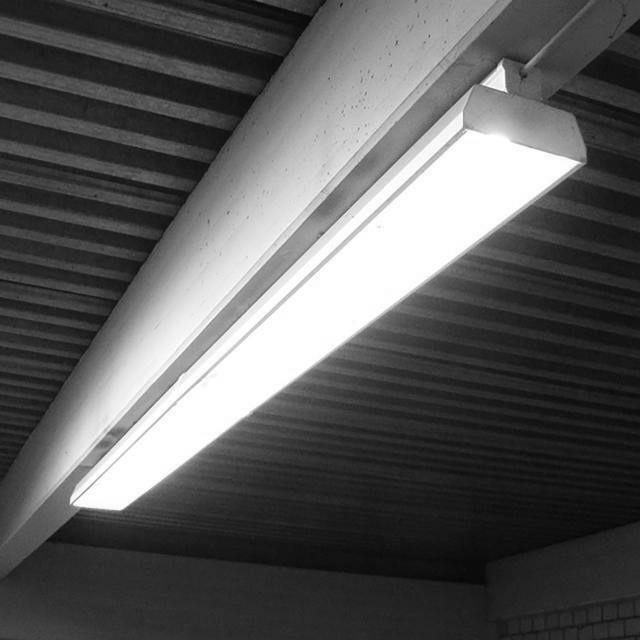light: (67, 75, 587, 514)
